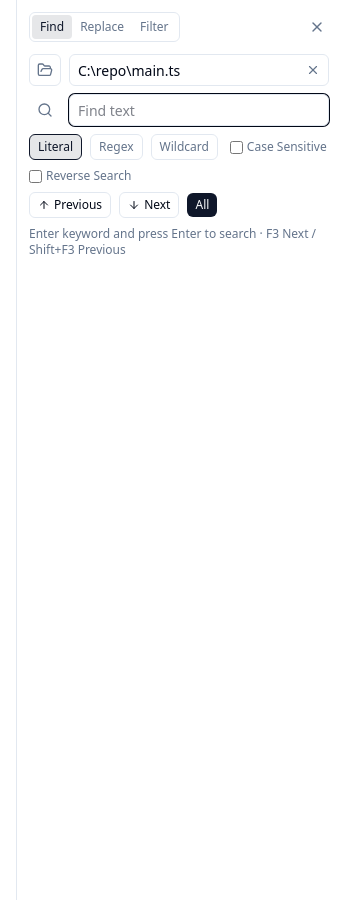
Test: SearchReplacePanel › prefers backend cursor-step command for find-mode next navigation when available
Type "todo" into the field with placeholder "Find text".
click(199, 110); type("todo")  # box x1=69 y1=94 x2=329 y2=126
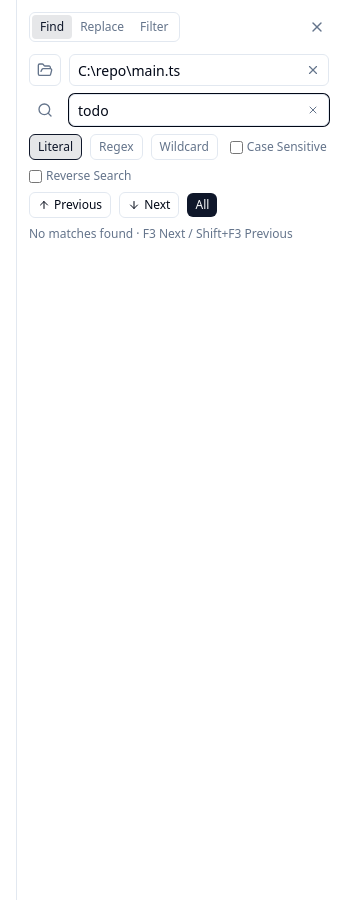
Click the button titled "Next match".
click(149, 205)  # box x1=119 y1=192 x2=179 y2=218
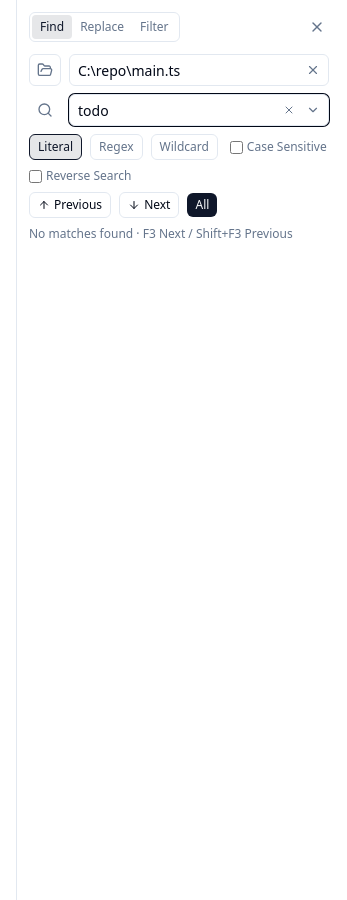
Click the button titled "Next match".
click(149, 205)  # box x1=119 y1=192 x2=179 y2=218
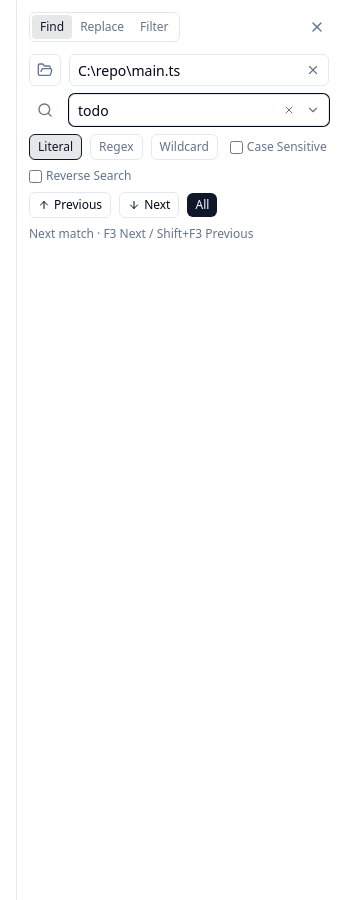
Now the text "Next match · F3 Next / Shift+F3 Previous" is shown, box x1=29 y1=225 x2=253 y2=242
